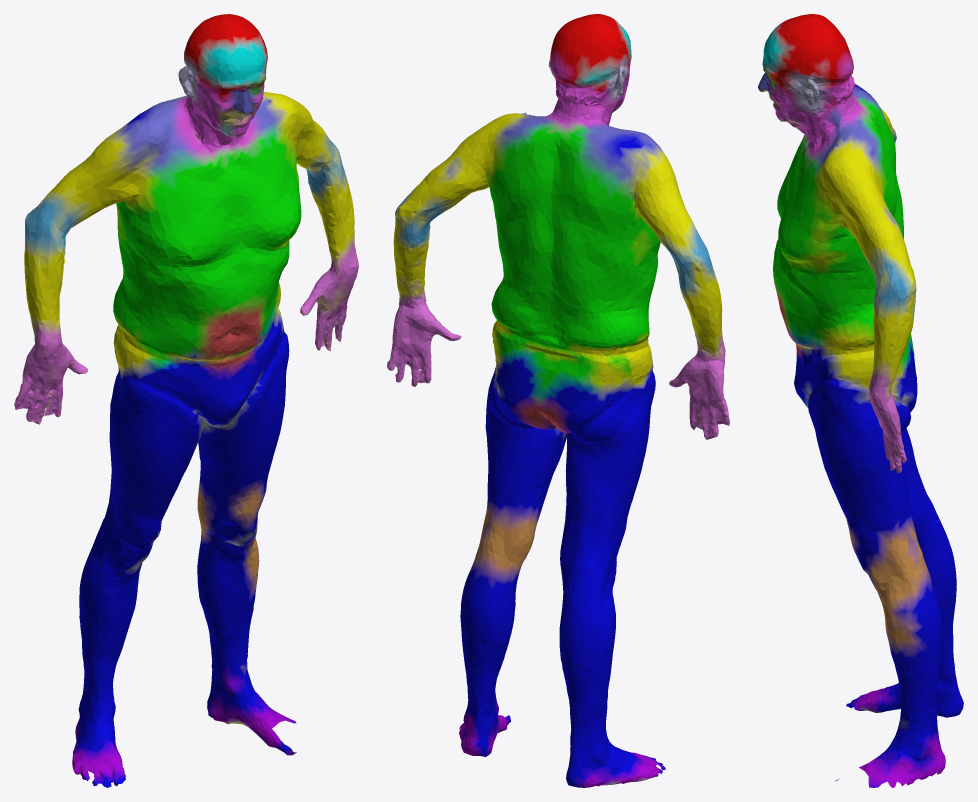
Rendered from 65_output_fine_grained.glb.
3 renders of one model, left to right at view 1: azimuth 30°, elevation 25°; view 2: azimuth 150°, elevation 25°; view 3: azimuth 270°, elevation 25°, orthographic. The views are drawn at different scales.
Parts seen in each view (by area): view 1: 65_output_fine_grained.obj; view 2: 65_output_fine_grained.obj; view 3: 65_output_fine_grained.obj.
Boxes of the visible parts, <box> form: 65_output_fine_grained.obj: <box>14,14,358,787</box>; 65_output_fine_grained.obj: <box>387,14,729,787</box>; 65_output_fine_grained.obj: <box>758,14,963,787</box>.
Bounding box in the file's own units: 0.864 × 1.81 × 0.4594.
